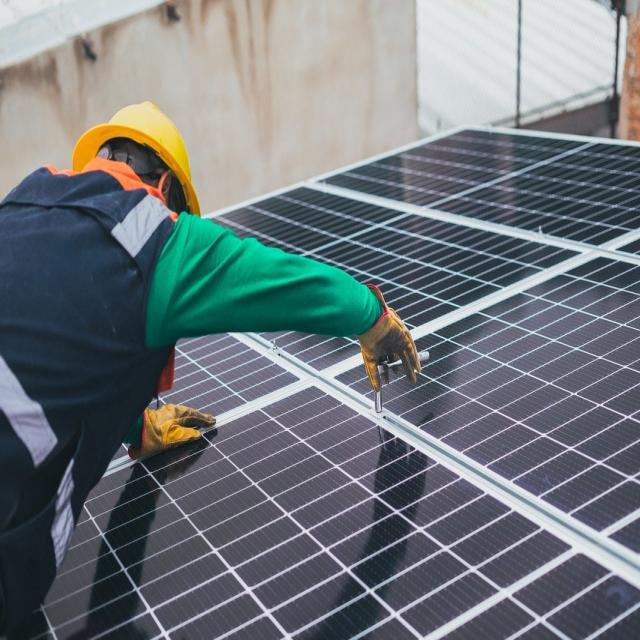clean-solar-panel: (19, 127, 640, 639)
